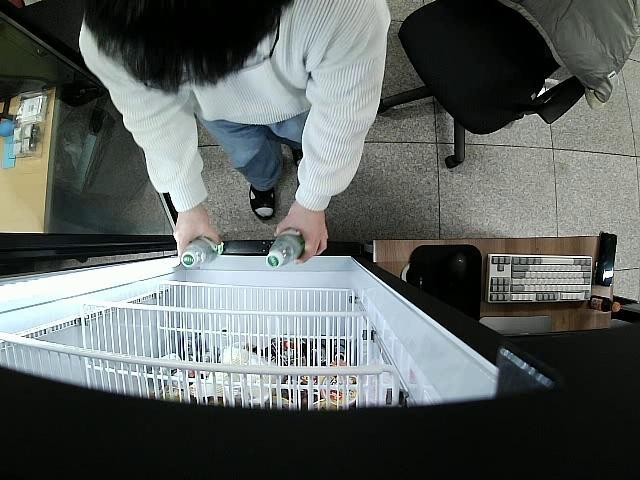18_trevi: (264, 229, 306, 268), (181, 237, 224, 269)
